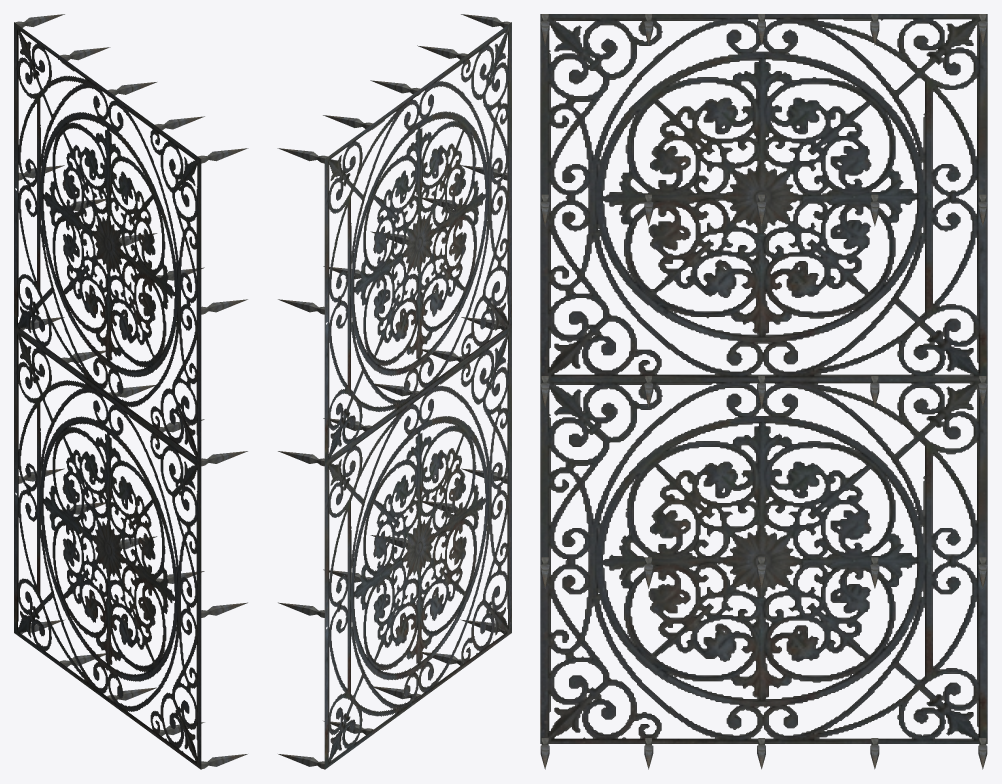
Rendered from spikes.fbx.
3 renders of one model, left to right at view 1: azimuth 30°, elevation 25°; view 2: azimuth 150°, elevation 25°; view 3: azimuth 270°, elevation 25°, orthographic. The views are drawn at different scales.
Parts seen in each view (by area): view 1: Plane.001; view 2: Plane.001; view 3: Plane.001.
Boxes of the visible parts, <box> form: Plane.001: <box>14,14,248,769</box>; Plane.001: <box>277,14,511,769</box>; Plane.001: <box>540,14,987,769</box>.
Bounding box in the file's own units: 30.66 × 361 × 200.
